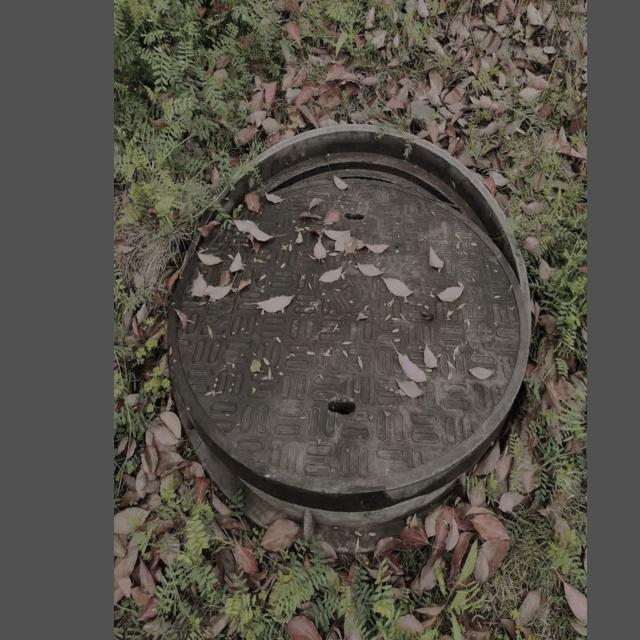uncovered: (166, 122, 533, 535)
